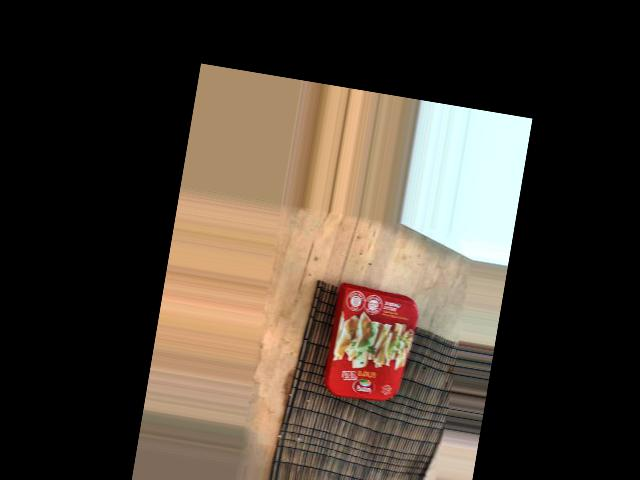cheese: (326, 344, 466, 454)
